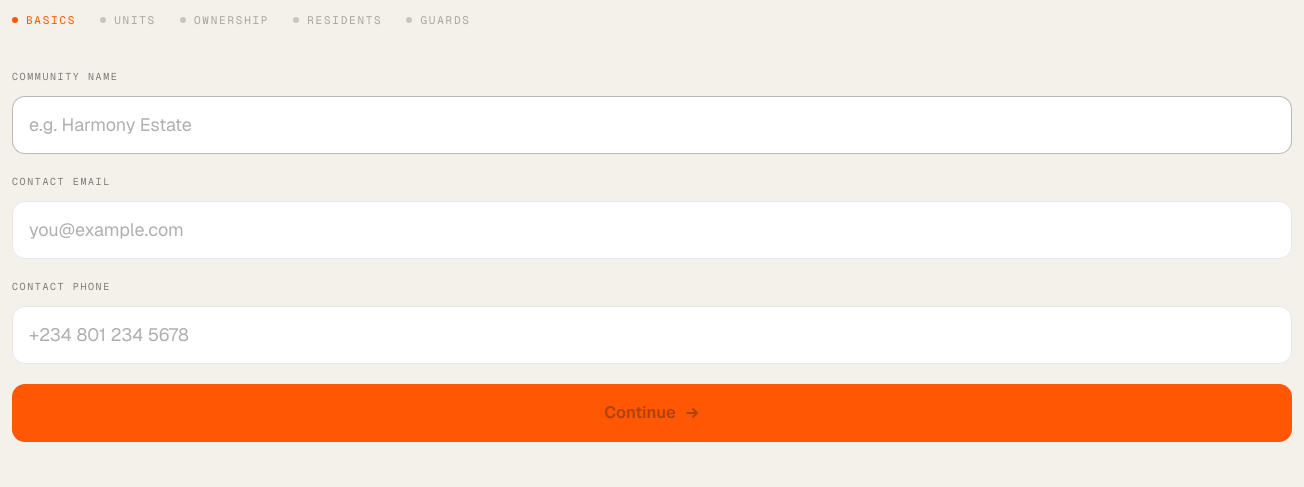
Test: CommunityWizard › shows an inline error on the name field when submission fails
The image size is (1304, 487).
Step 1. Type "Harmony Estate" into the field labelled "Community name" → (652, 124), box [12, 96, 1292, 154]
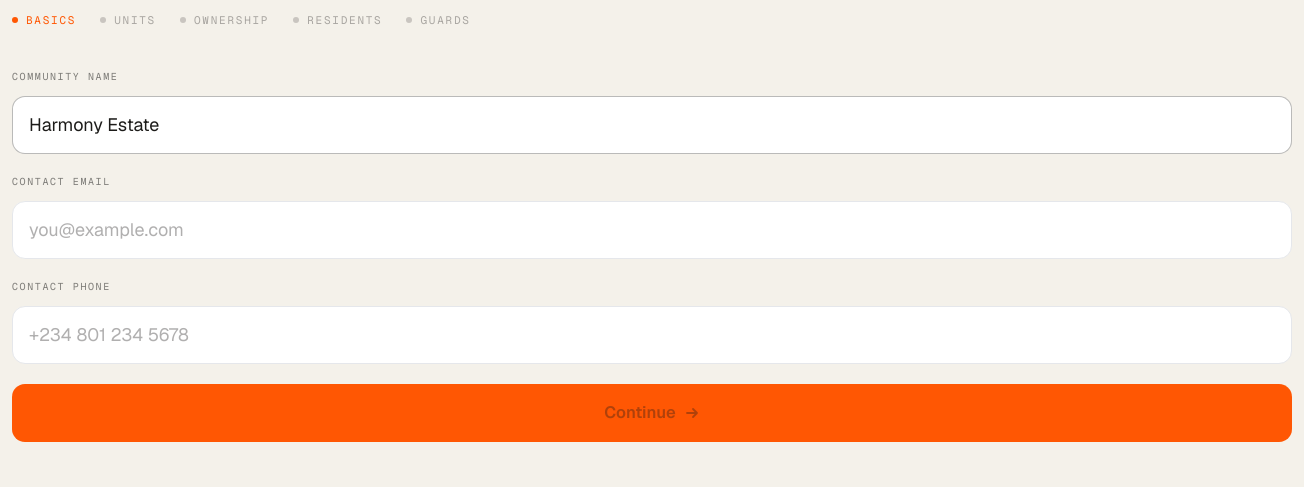
Step 2. Type "admin@example.com" into the field labelled "Contact email" → (652, 230), box [12, 200, 1292, 258]
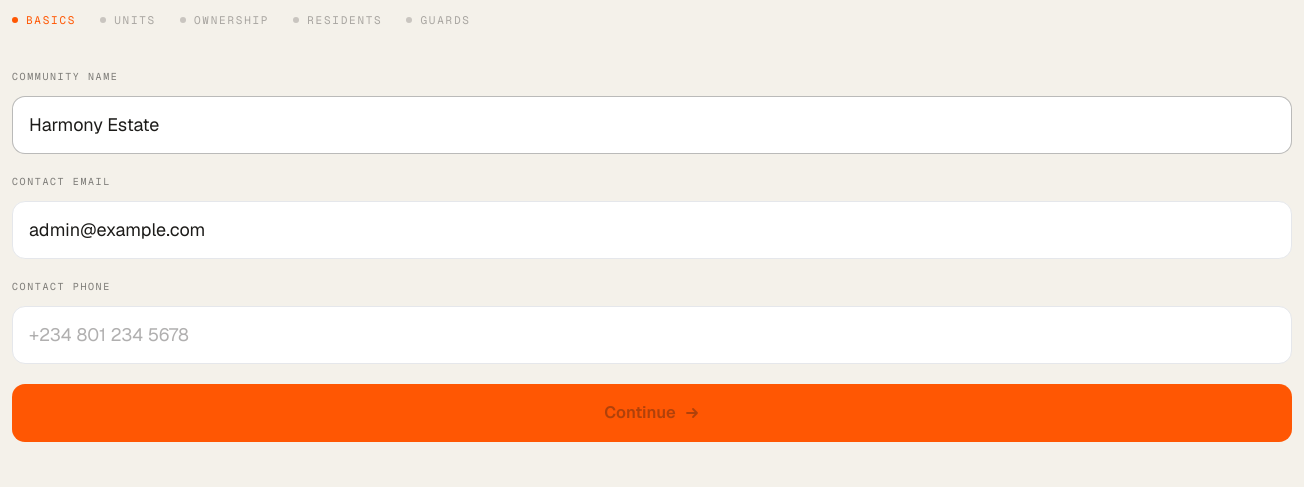
Step 3. Type "+2348012345678" into the field labelled "Contact phone" → (652, 334), box [12, 306, 1292, 364]
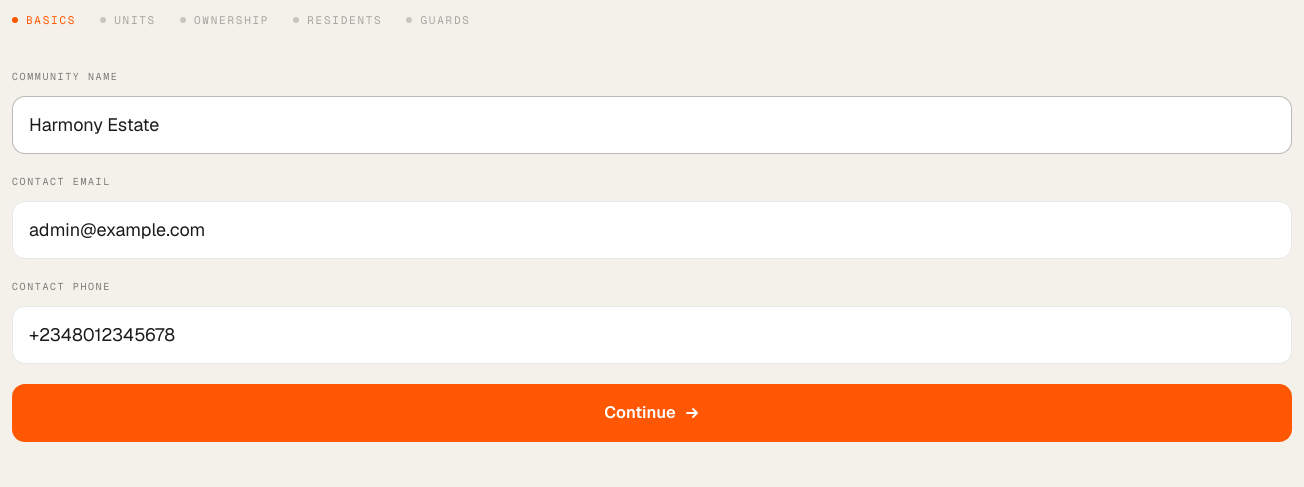
Expected: the button "Continue" is enabled
Step 4. Click the button "Continue" → (652, 412), box [12, 384, 1292, 442]
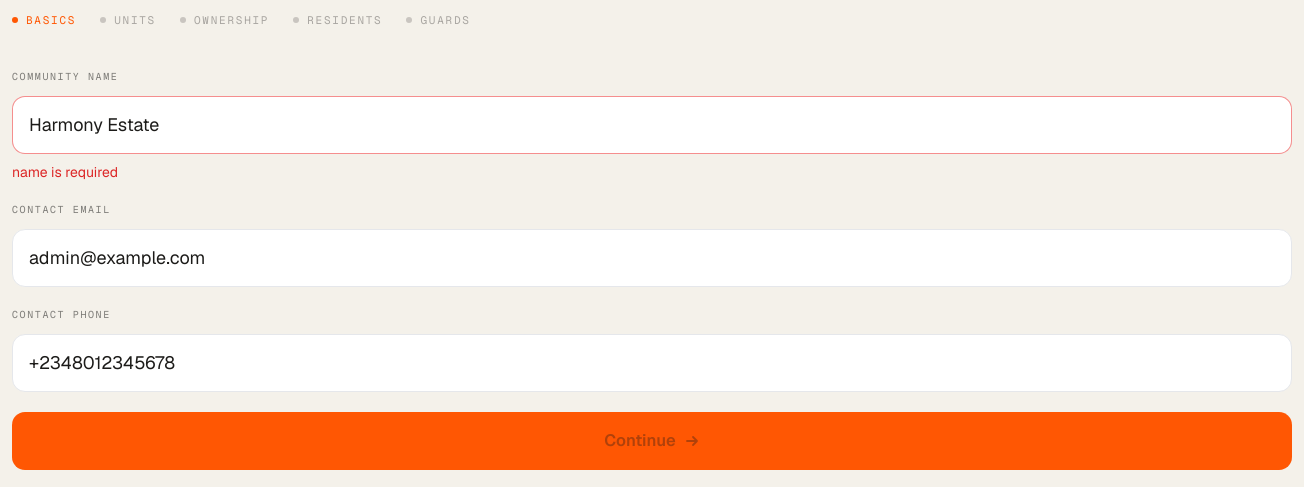
Expected: the text "name is required" is shown, [12, 162, 118, 180]
